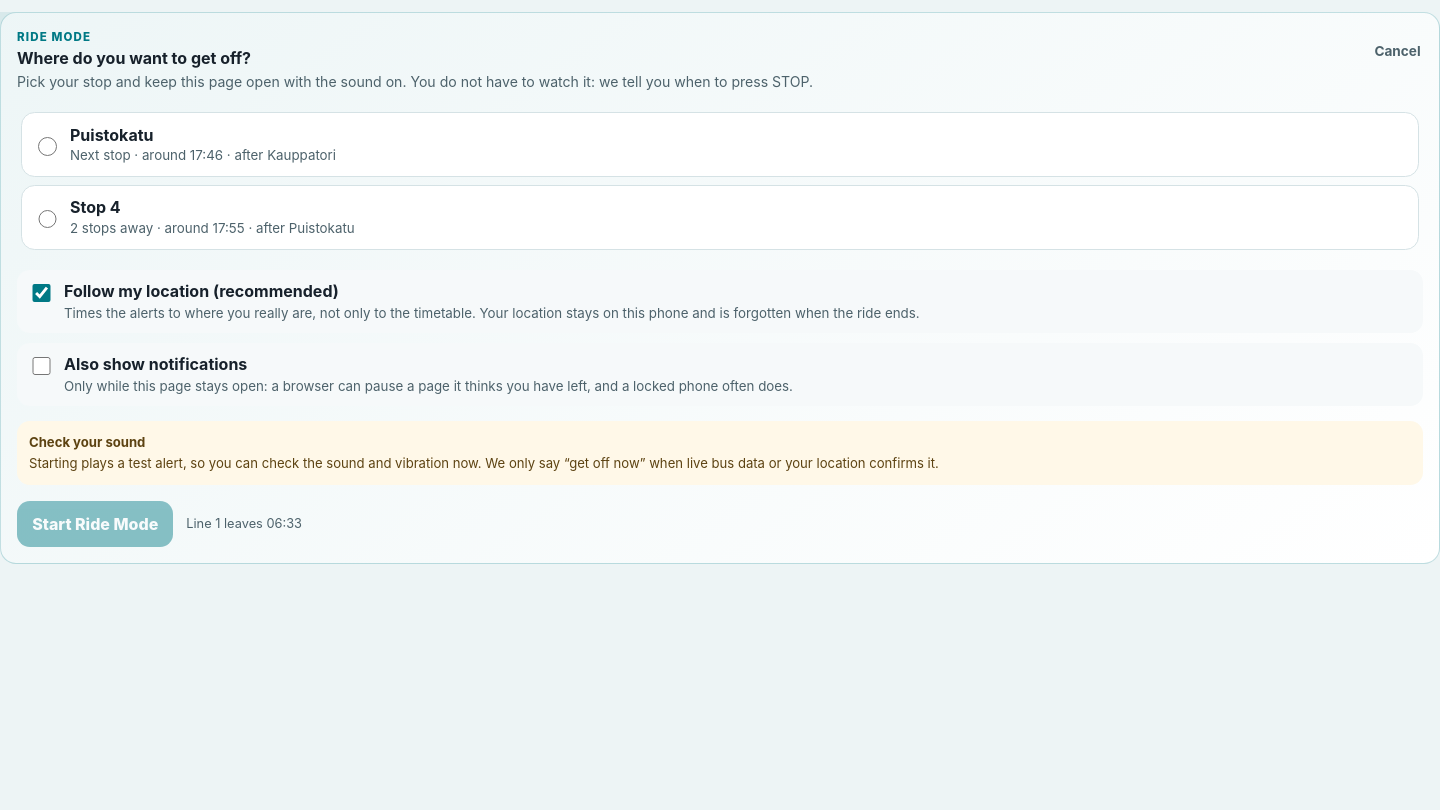
it: clears a start error once another stop is chosen
Check: the button "Start Ride Mode" is shown, box [17,501,174,547]
Click the radio button showing "2" at (47, 146), box [38,137,57,156]
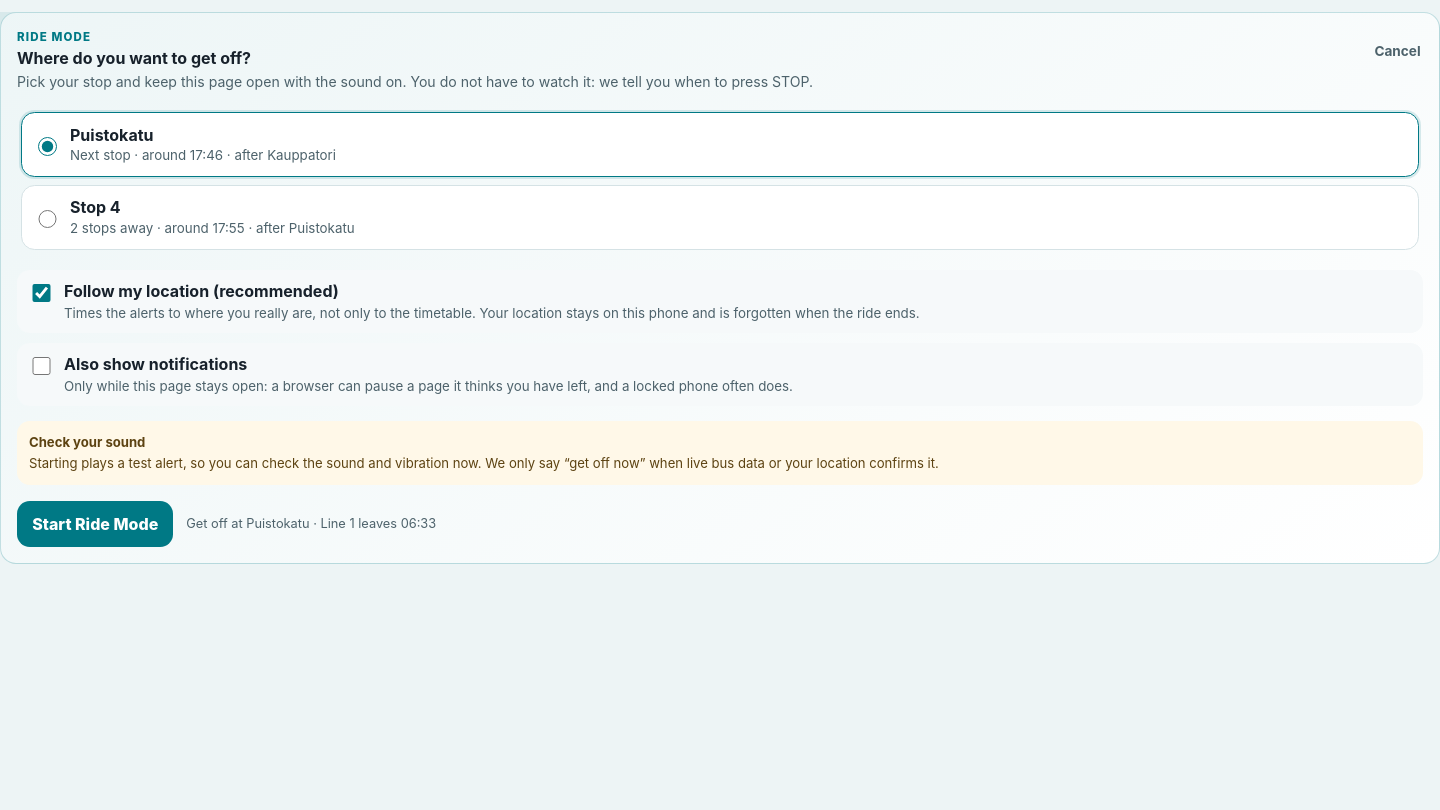
Click the button "Start Ride Mode" at (95, 524), box [17,501,174,547]
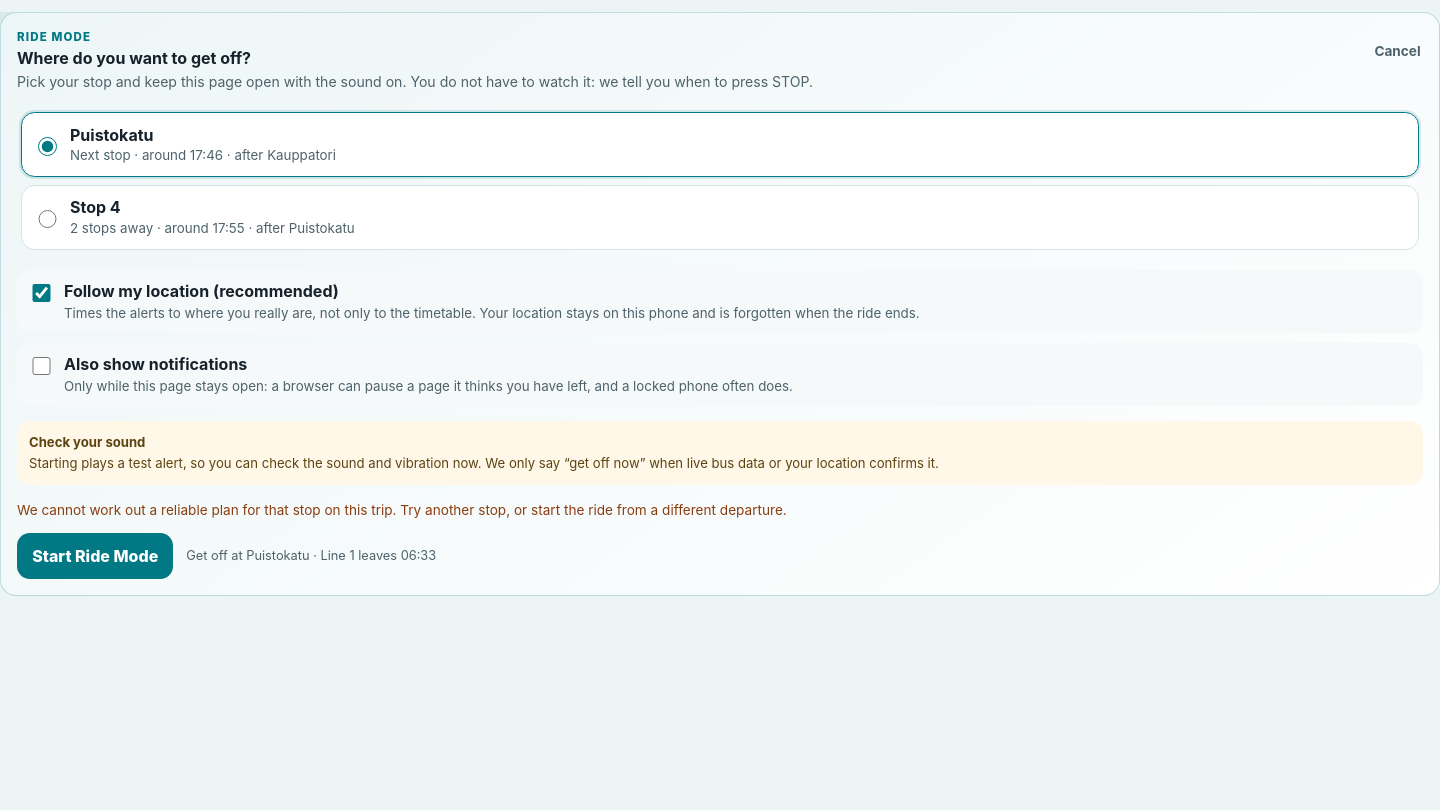
Check: the message is shown, box [17,502,787,518]
Click the radio button showing "3" at (47, 219), box [38,210,57,228]
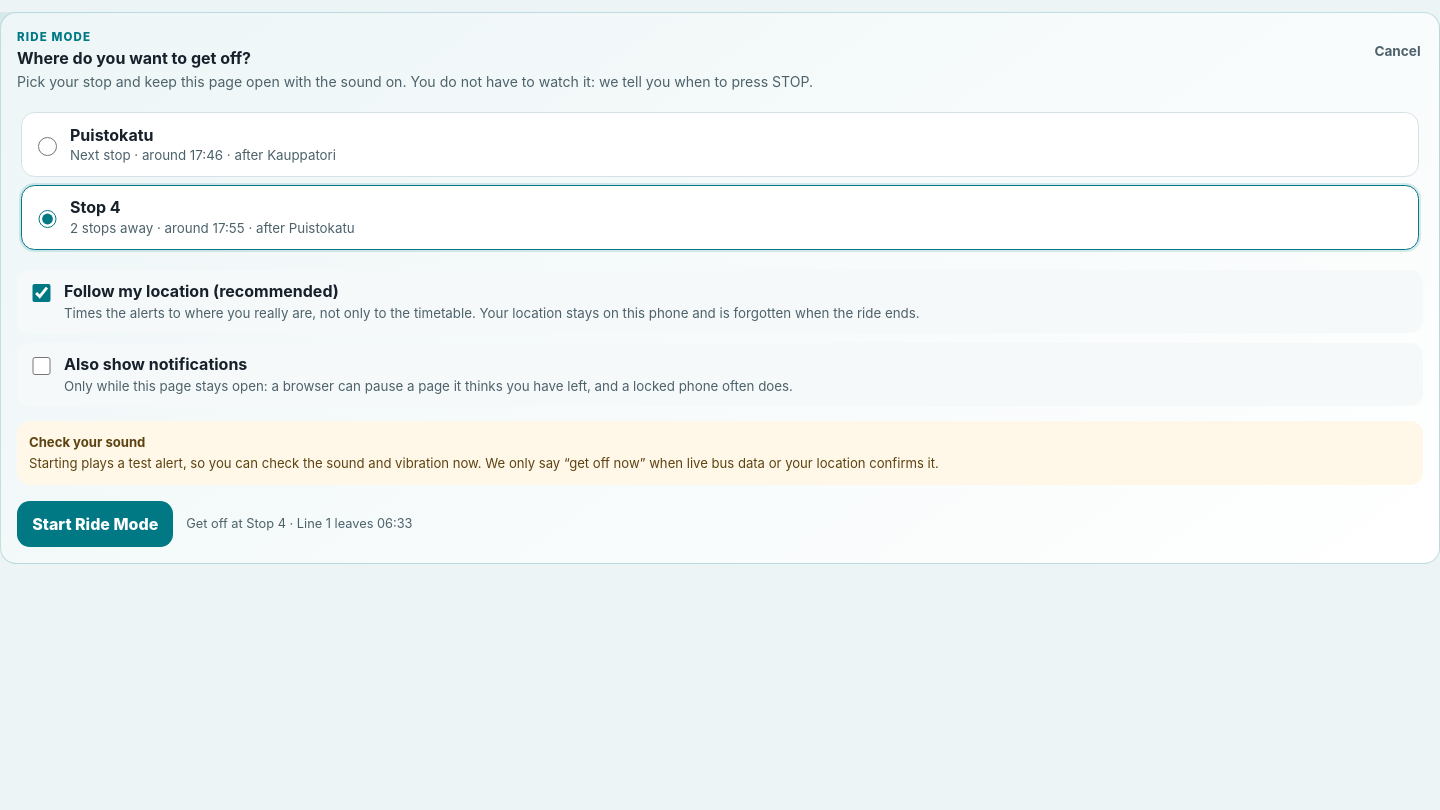
Check: the message is gone
